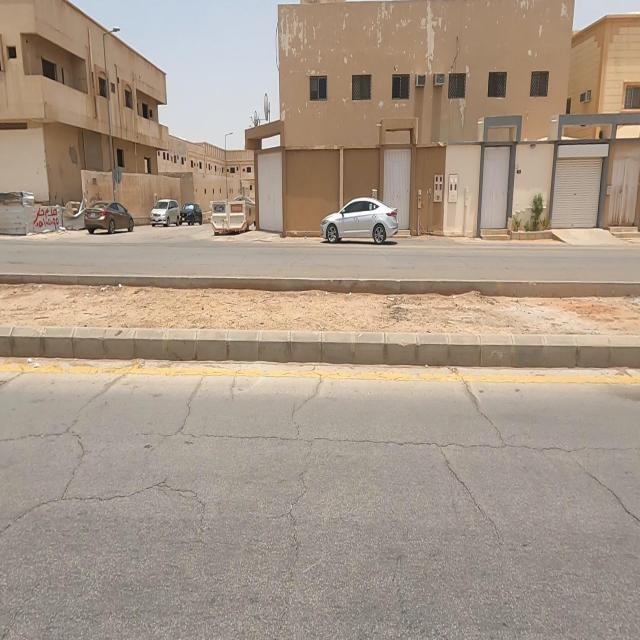Graffiti: (35, 209, 63, 230)
